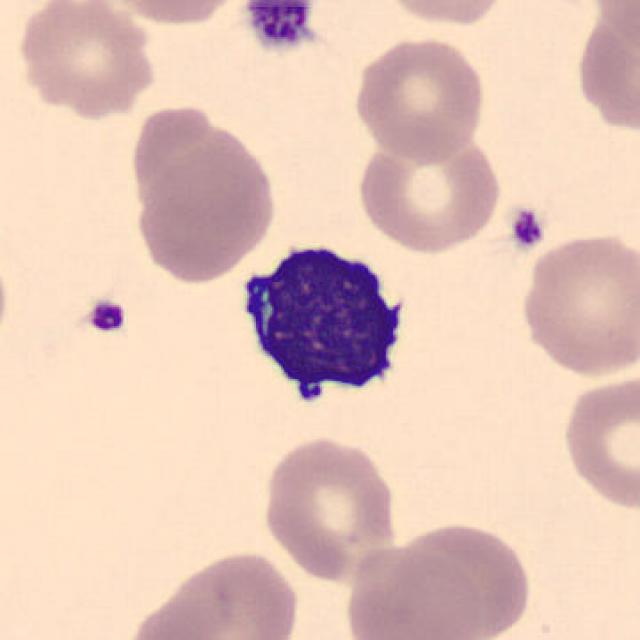Lymphocyte: (226, 228, 421, 423)
Platelets: (238, 0, 320, 56), (82, 294, 130, 338), (505, 204, 547, 254)
RBC: (130, 118, 281, 286), (258, 430, 402, 586), (354, 127, 505, 256), (516, 227, 638, 381), (350, 32, 489, 164), (389, 518, 537, 638), (12, 0, 160, 120), (126, 546, 304, 640), (342, 545, 486, 640), (558, 370, 638, 515), (578, 17, 640, 134), (94, 0, 251, 30), (375, 0, 514, 30), (588, 0, 639, 56)
